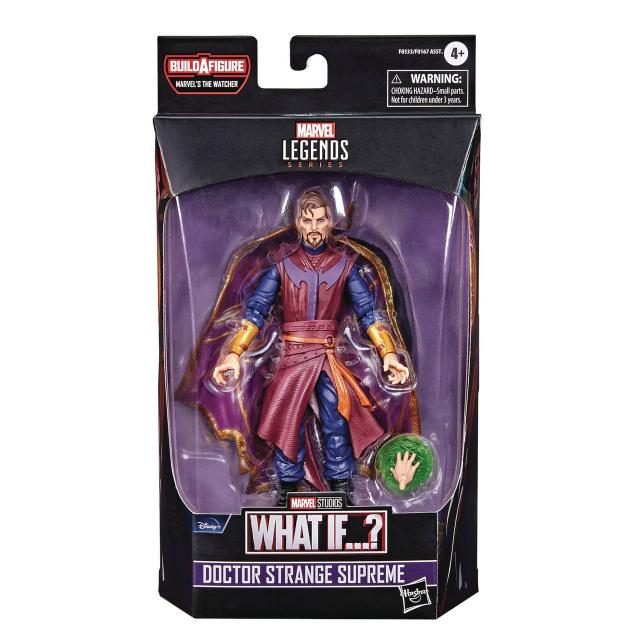doctor_strange: (200, 188, 439, 521)
